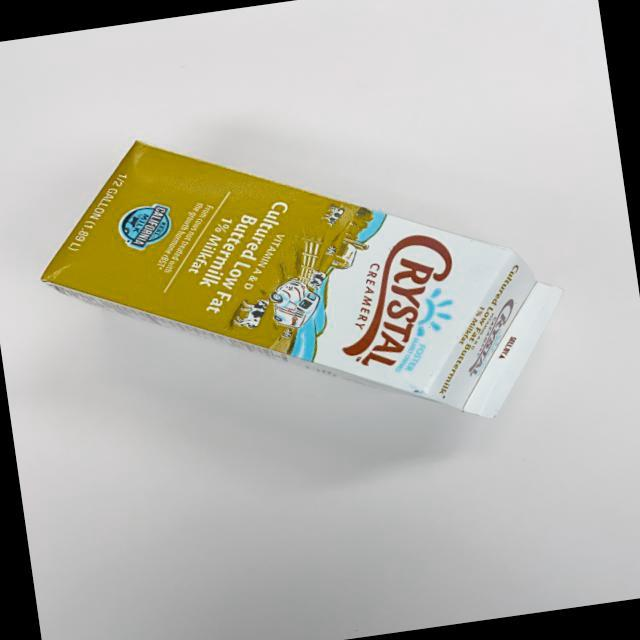paper: (10, 66, 622, 492)
